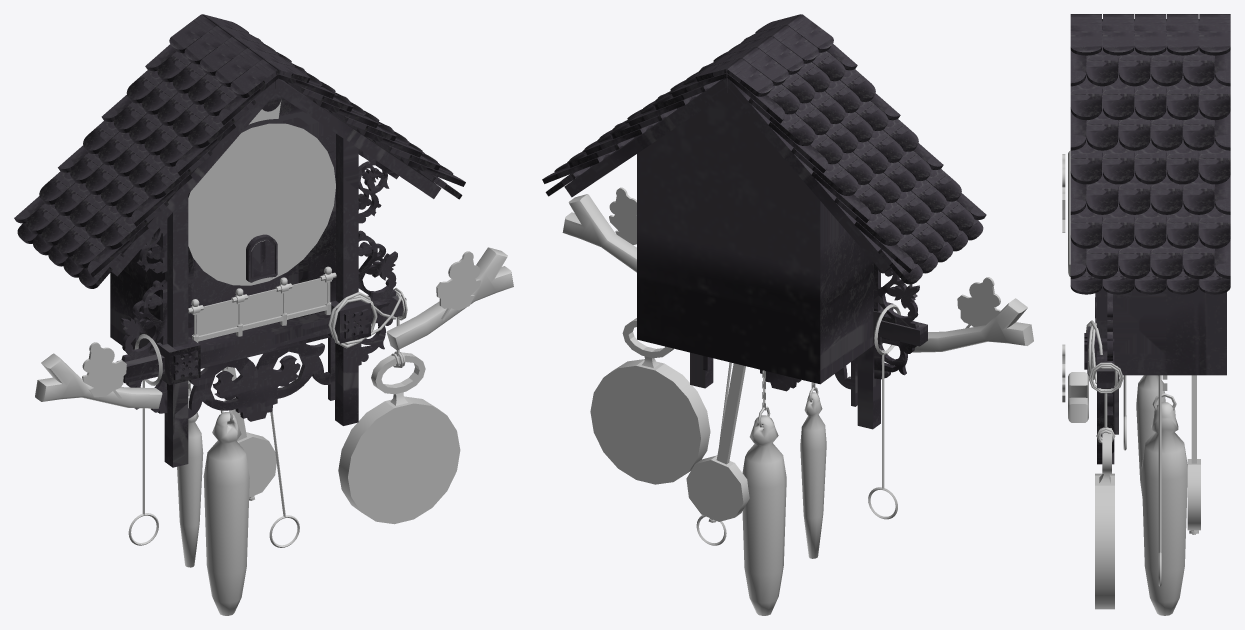
Rendered from Clock.fbx.
3 renders of one model, left to right at view 1: azimuth 30°, elevation 25°; view 2: azimuth 150°, elevation 25°; view 3: azimuth 270°, elevation 25°, orthographic. The views are drawn at different scales.
Parts seen in each view (by area): view 1: Body, Object071, Object073, Object087, Object081, Object082, Object076; view 2: Body, Object071, Object087, Object082, Object081; view 3: Body, Object087, Object071, Object082.
Part boxes in pixels (left/top/right/bottom): Body: left=14, top=14, right=465, bottom=467; Object071: left=35, top=247, right=513, bottom=547; Object073: left=188, top=123, right=335, bottom=285; Object087: left=177, top=398, right=249, bottom=615; Object081: left=436, top=251, right=480, bottom=320; Object082: left=82, top=342, right=126, bottom=399; Object076: left=240, top=181, right=283, bottom=237; Body: left=542, top=14, right=986, bottom=429; Object071: left=562, top=194, right=1033, bottom=545; Object087: left=742, top=392, right=826, bottom=615; Object082: left=957, top=277, right=1000, bottom=328; Object081: left=609, top=187, right=636, bottom=244; Body: left=1070, top=14, right=1230, bottom=464; Object087: left=1136, top=375, right=1187, bottom=615; Object071: left=1068, top=150, right=1200, bottom=609; Object082: left=1062, top=154, right=1065, bottom=232.
Bounding box in the file's own units: 197 × 229 × 58.15.
